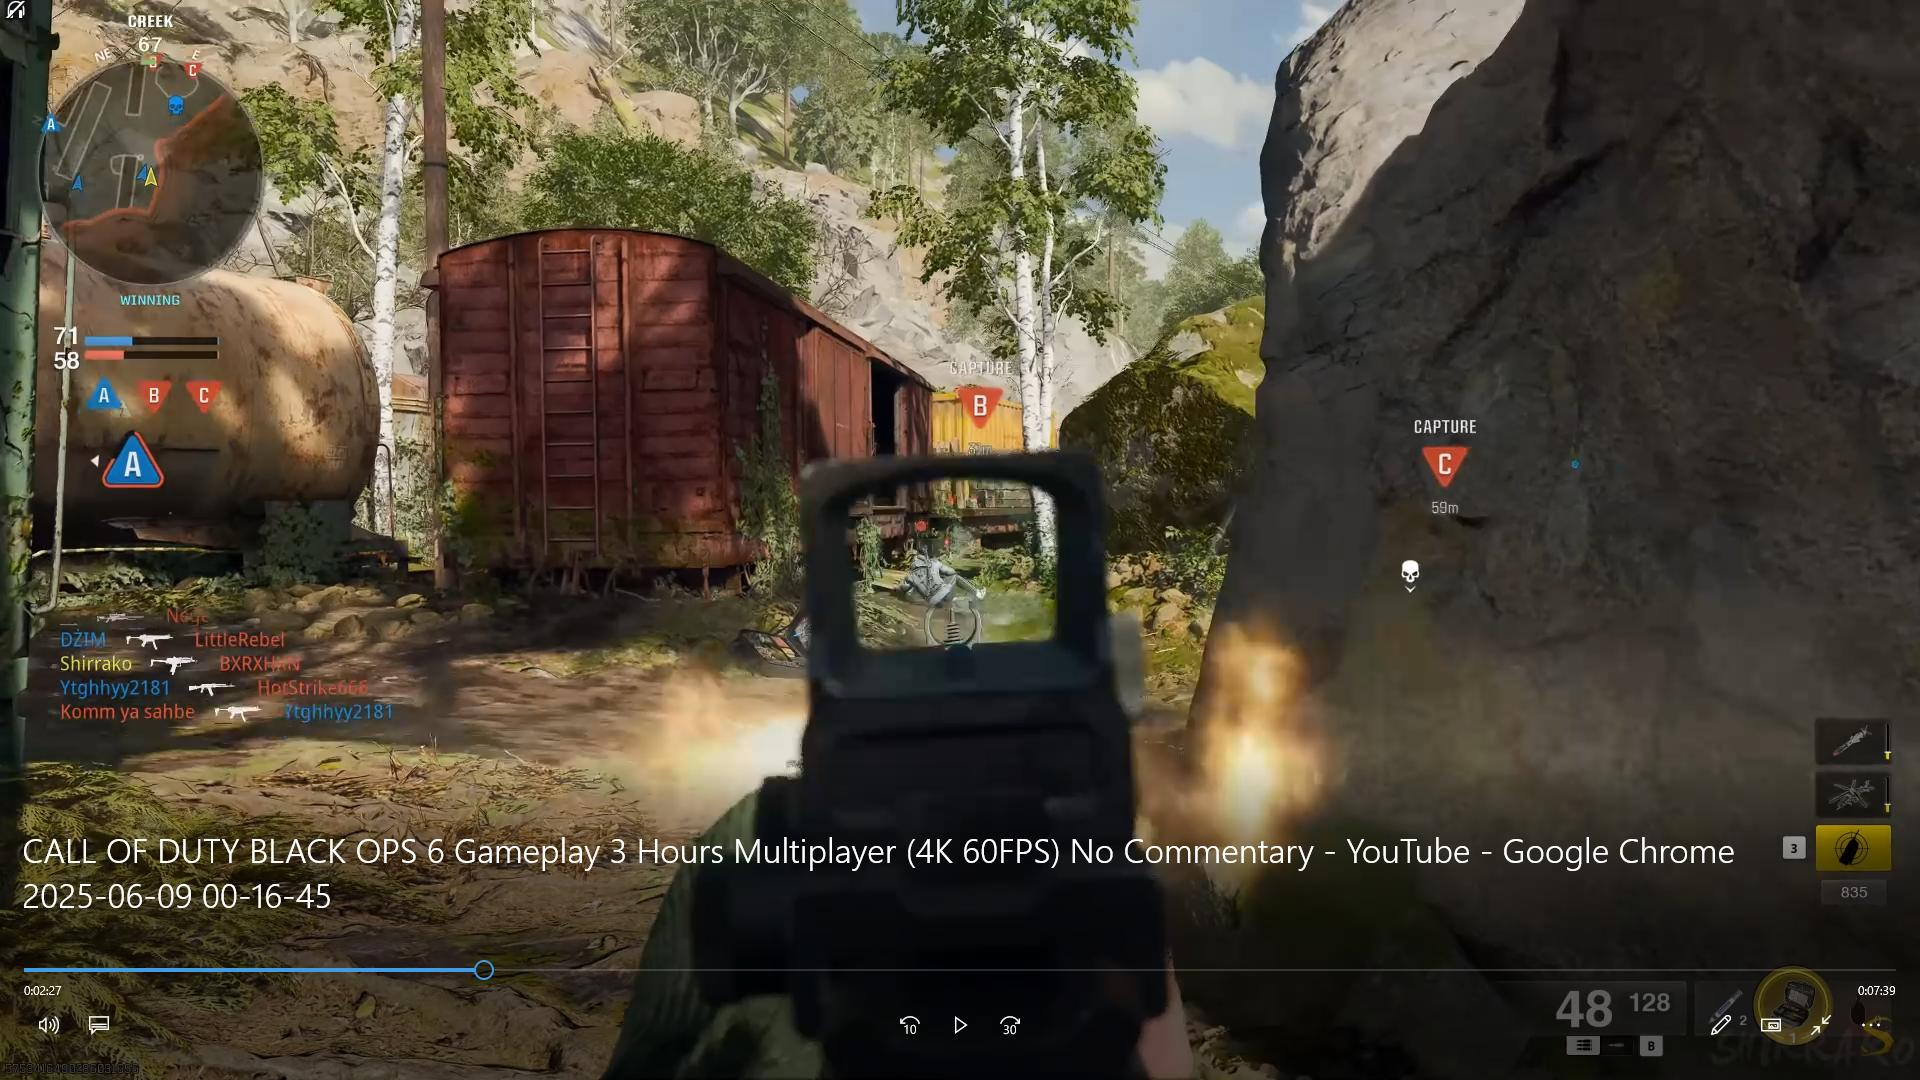Enemy: (894, 549, 988, 617)
